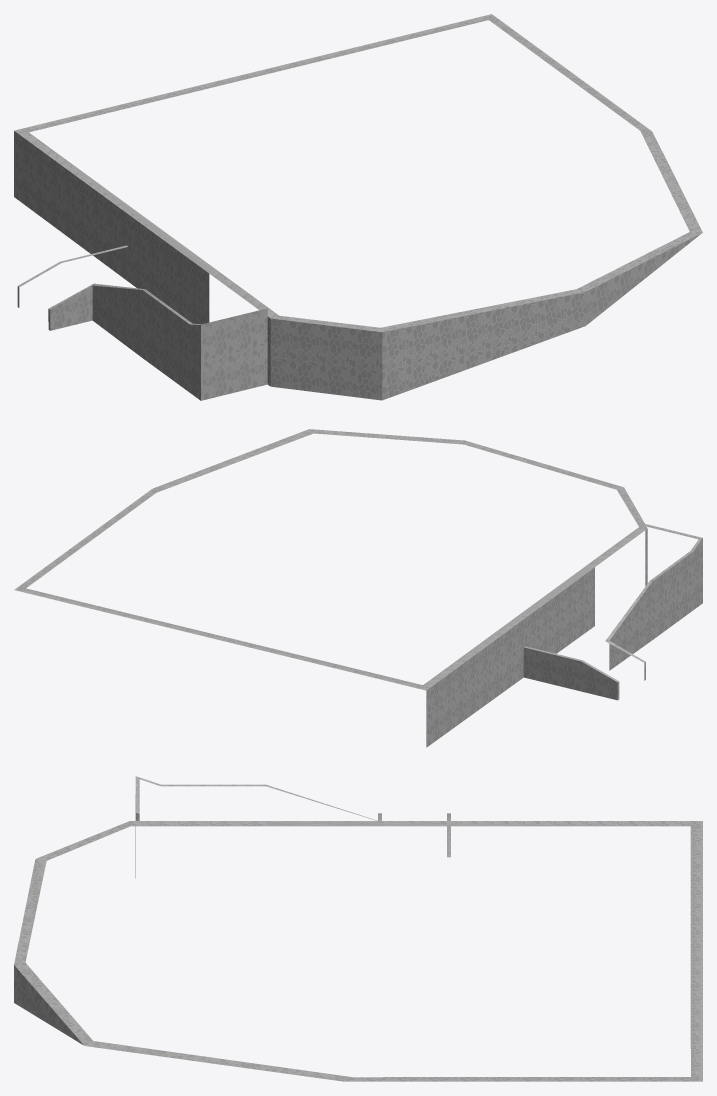
Rendered from kd_stage_1366d7_2_0.glb.
The picture shows the model from 3 angles, top to bottom: view 1: azimuth 30°, elevation 25°; view 2: azimuth 150°, elevation 25°; view 3: azimuth 270°, elevation 25°; orthographic projection. The views are drawn at different scales.
Parts seen in each view (by area): view 1: kd_stage_1366d7_2_0; view 2: kd_stage_1366d7_2_0; view 3: kd_stage_1366d7_2_0.
Part boxes in pixels (x1=…): kd_stage_1366d7_2_0: x1=14, y1=14, x2=702, y2=400; kd_stage_1366d7_2_0: x1=14, y1=429, x2=702, y2=747; kd_stage_1366d7_2_0: x1=14, y1=776, x2=702, y2=1081.
Size of the model in its own units: 77.5 by 9.56 by 70.48.
Materials: 1 (1 with a texture image).
